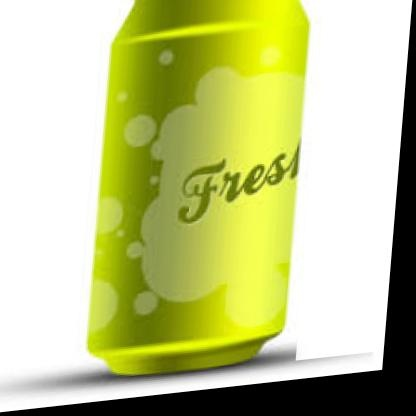trash: (88, 0, 308, 374)
